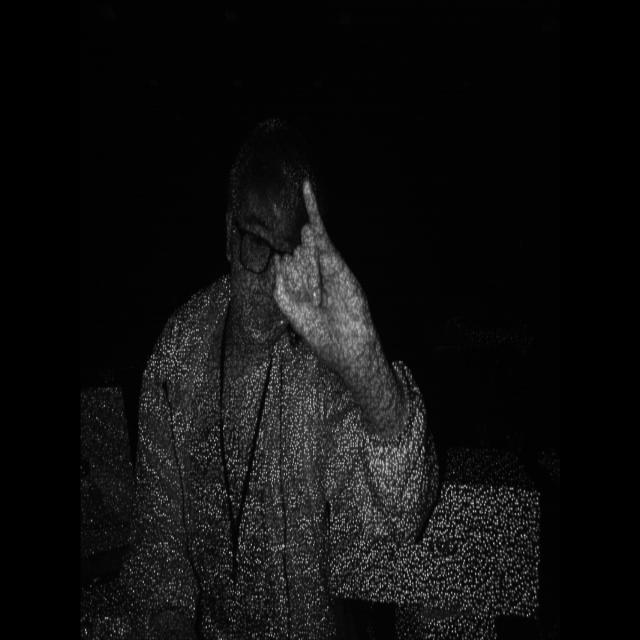I: (266, 165, 364, 374)
